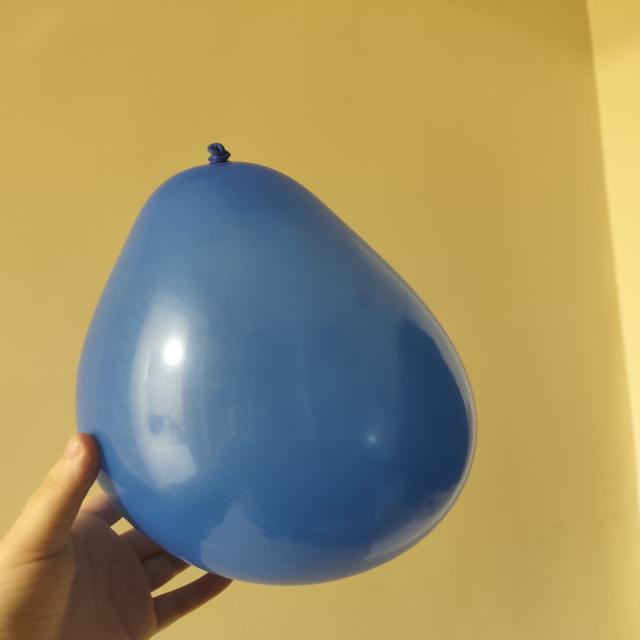balloon: (77, 145, 476, 585)
